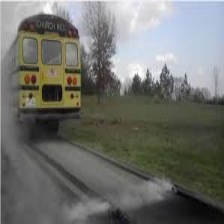smoke: (8, 104, 58, 204), (80, 175, 177, 216)
